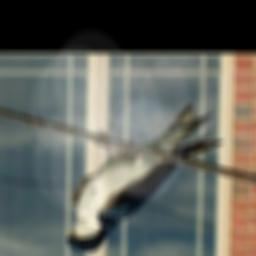Swallow: (65, 102, 225, 254)
